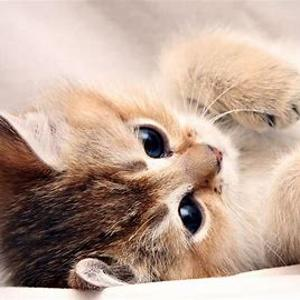cat: (26, 95, 256, 267)
